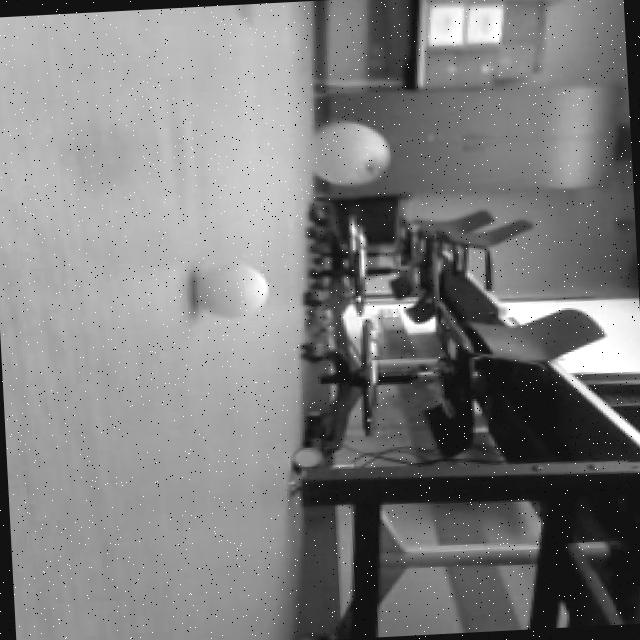ping-pong-ball: (302, 118, 394, 190), (186, 256, 273, 321)
